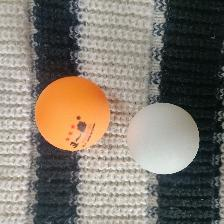WhiteBall: (126, 102, 199, 174)
YellowBall: (33, 75, 110, 151)
